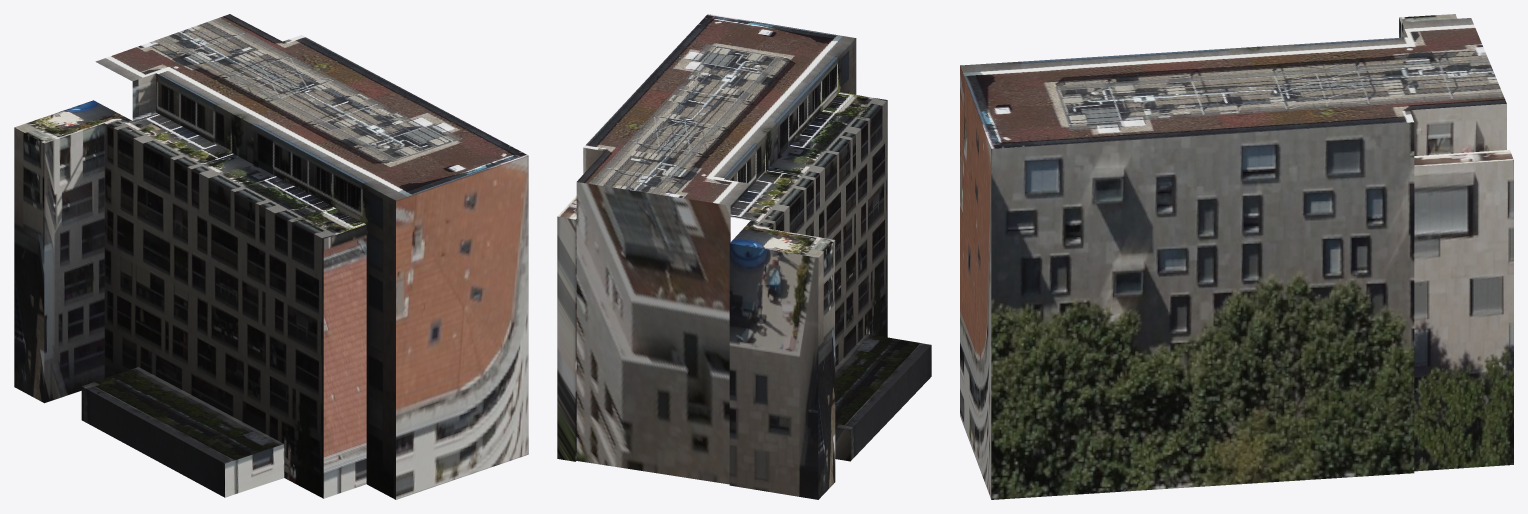
3 views of the same model, side by side, from view 1: azimuth 30°, elevation 25°; view 2: azimuth 150°, elevation 25°; view 3: azimuth 270°, elevation 25° (orthographic). The views are drawn at different scales.
Parts seen in each view (by area): view 1: Z_UP; view 2: Z_UP; view 3: Z_UP.
Part boxes in pixels (x1,y1,x2,y2): Z_UP: [14, 14, 528, 499]; Z_UP: [557, 14, 931, 499]; Z_UP: [960, 14, 1513, 499].
Size of the model in its own units: 24.88 by 22.47 by 32.13.
2 materials, 1 textured.
